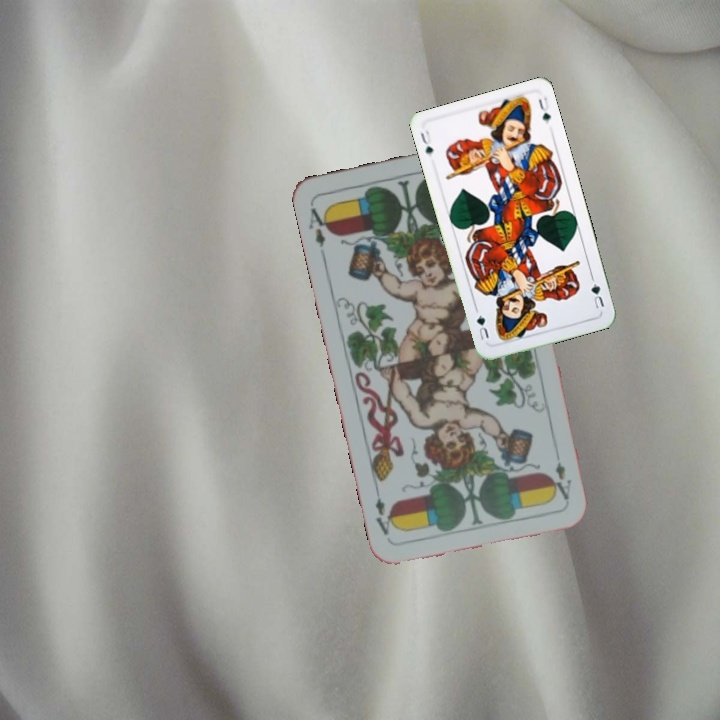EA: (304, 204, 335, 259), (551, 458, 574, 503)
GU: (587, 279, 607, 311), (416, 127, 436, 159)
